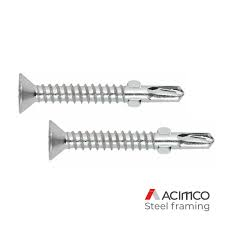TORNILLOS: (12, 65, 217, 168)
